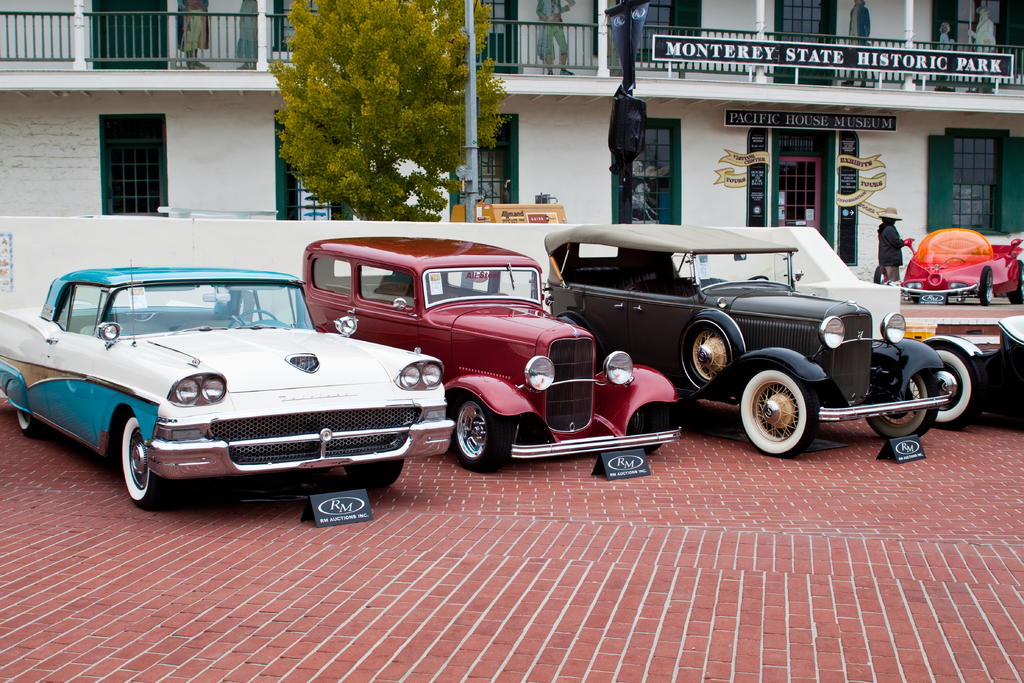Car: (0, 241, 462, 524), (277, 228, 684, 513), (543, 215, 947, 501), (913, 313, 1023, 450)
